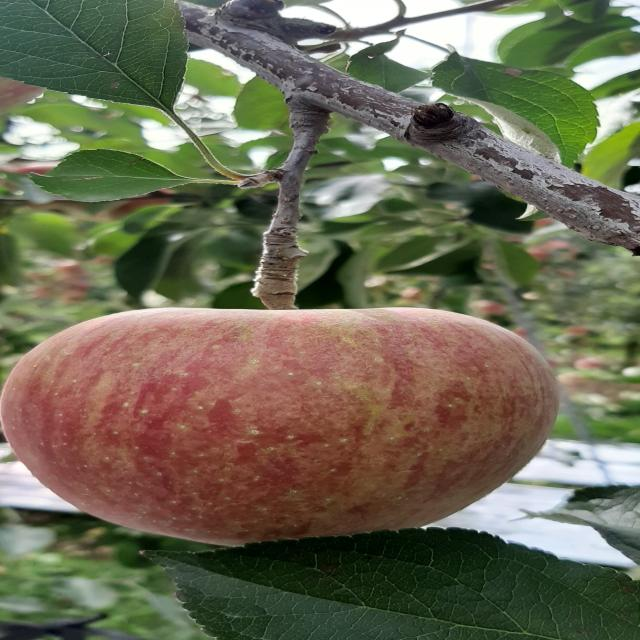fresh: (12, 301, 573, 553)
